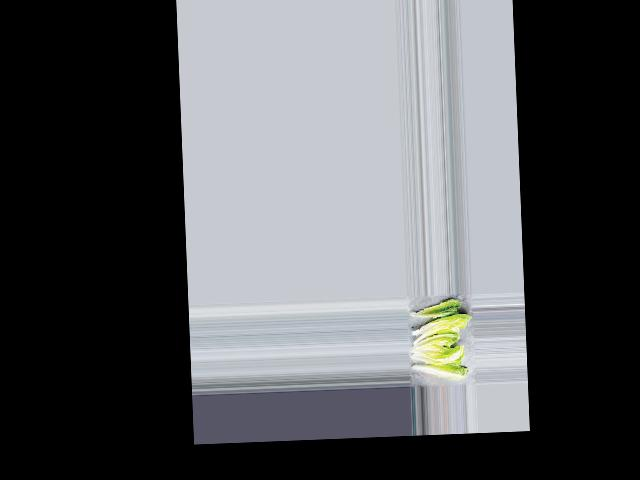lettuce: (407, 300, 461, 319)
